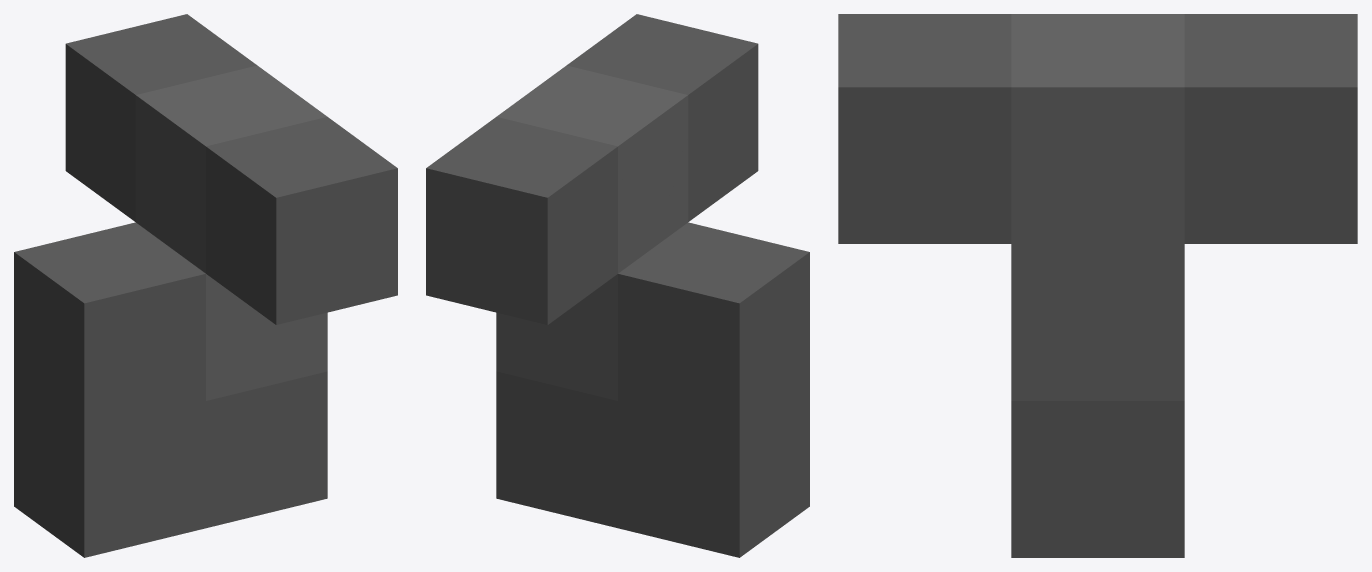
File: StoneHenge.obj
The picture shows the model from 3 angles, left to right: view 1: azimuth 30°, elevation 25°; view 2: azimuth 150°, elevation 25°; view 3: azimuth 270°, elevation 25°; orthographic projection. The views are drawn at different scales.
Size of the model in its own units: 2 by 3 by 3.
Materials: 1 (1 with a texture image).
